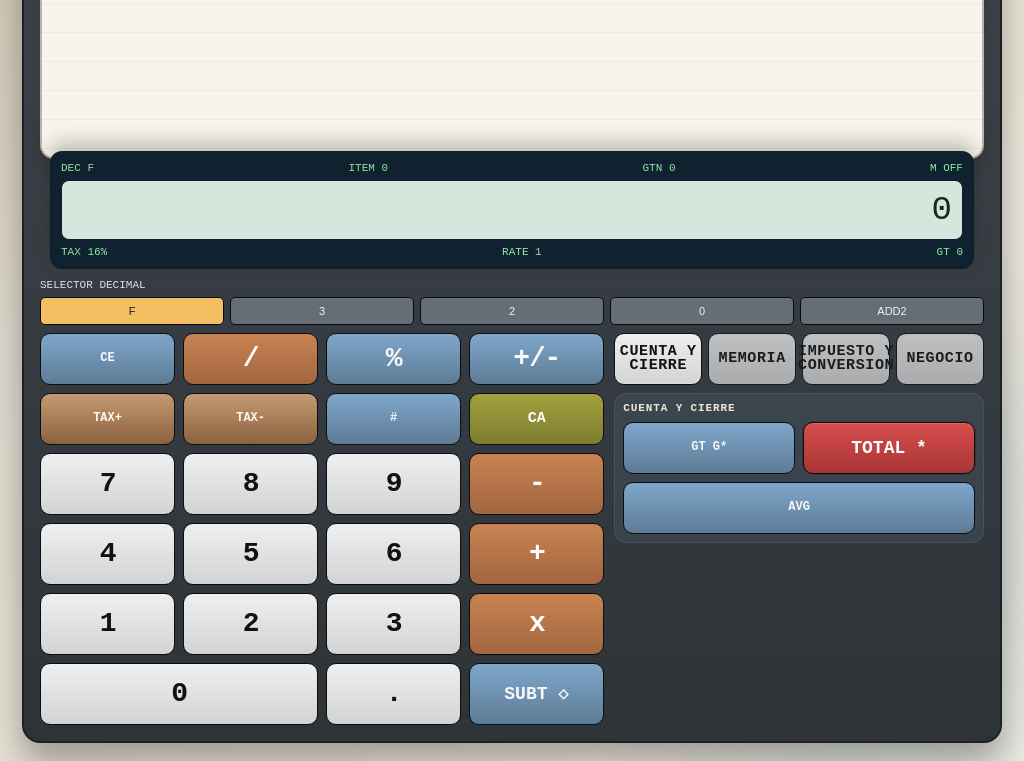
Test case: executes a Casio-style add and total flow from the main keypad
(page scrolled)
Expected: the element with class "hr-keypad-primary" is shown, [40, 333, 604, 725]
Click the 2nd button "2" at (251, 624), box [183, 593, 318, 655]
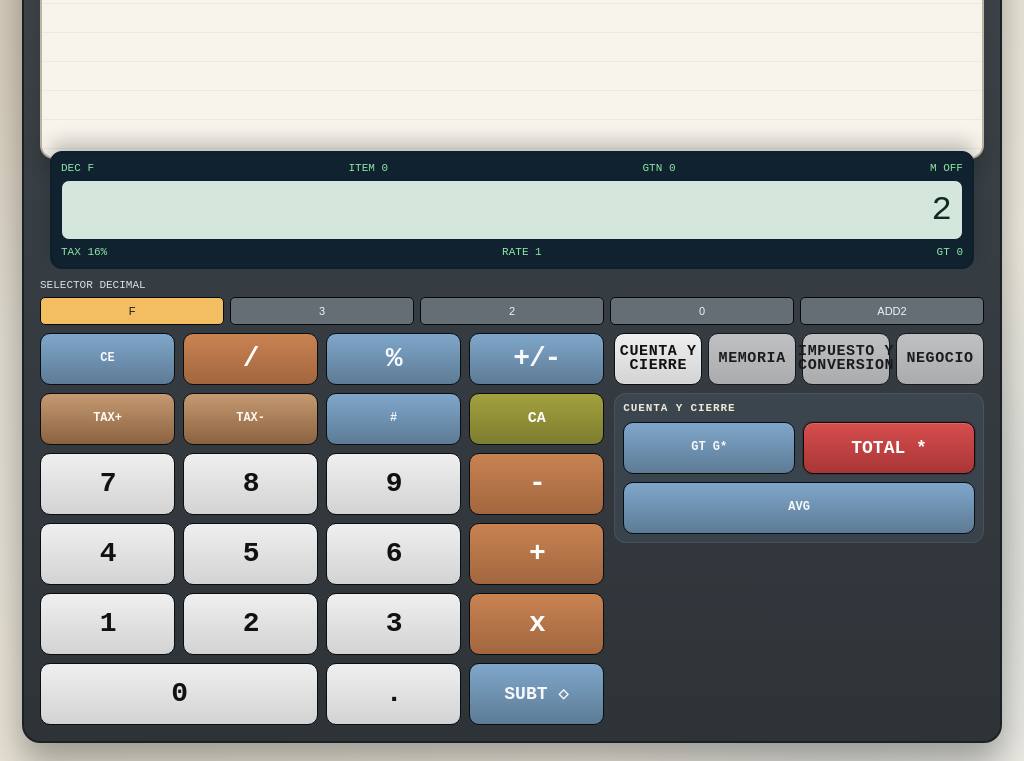
Click the button "+" at (537, 554), box [469, 523, 604, 585]
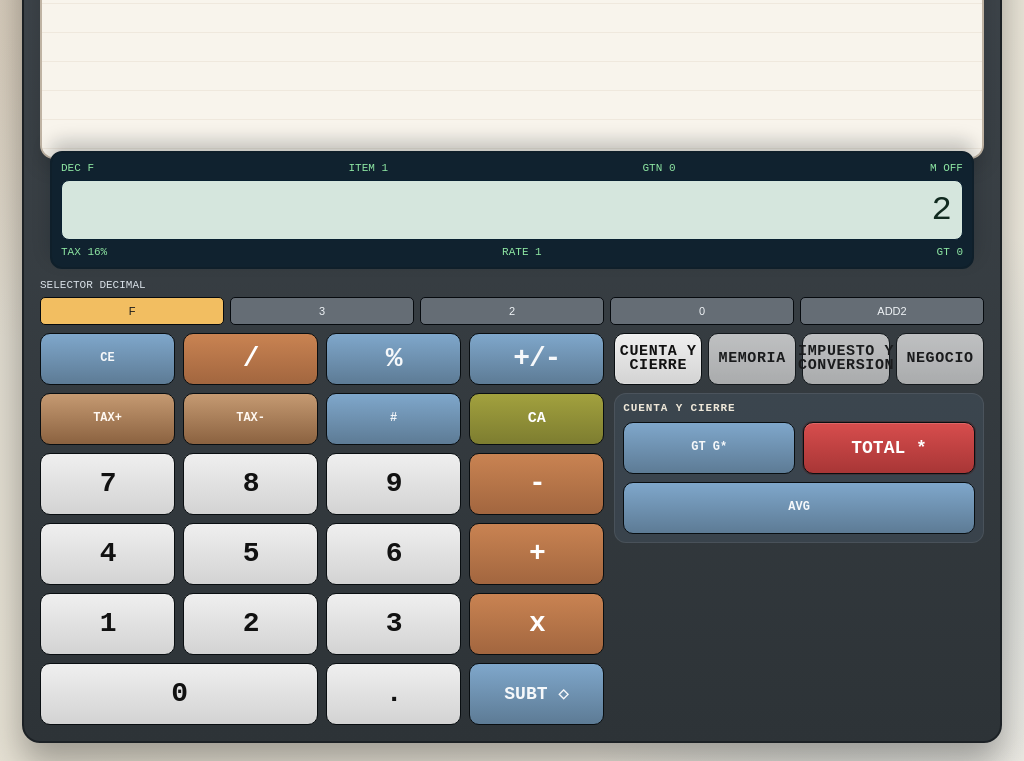
Click the 2nd button "3" at (394, 624), box [326, 593, 461, 655]
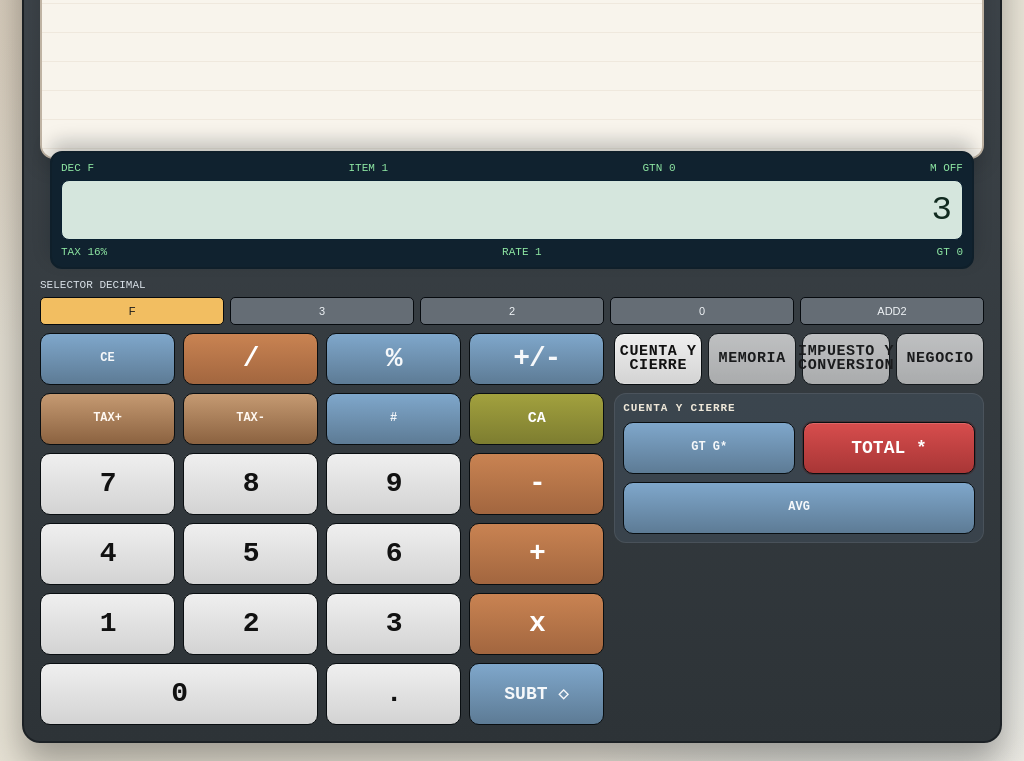
Click the button "TOTAL *" at (889, 448), box [803, 422, 975, 474]
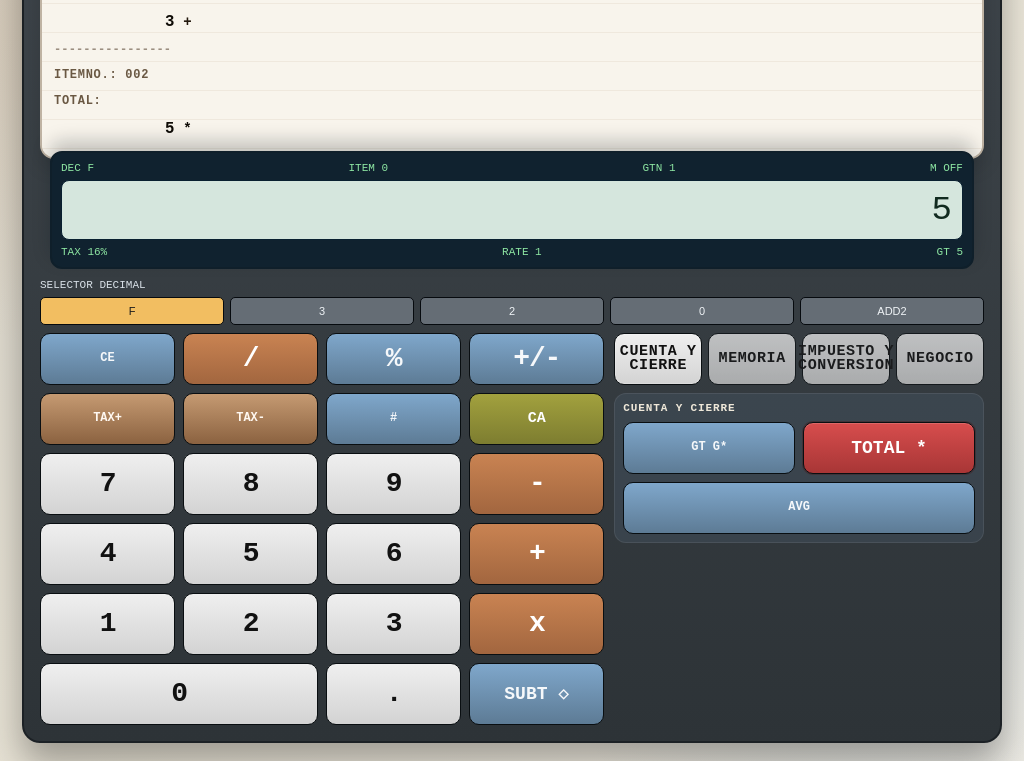
Expected: the text with class "hr-display" reads "5", [932, 191, 952, 229]
